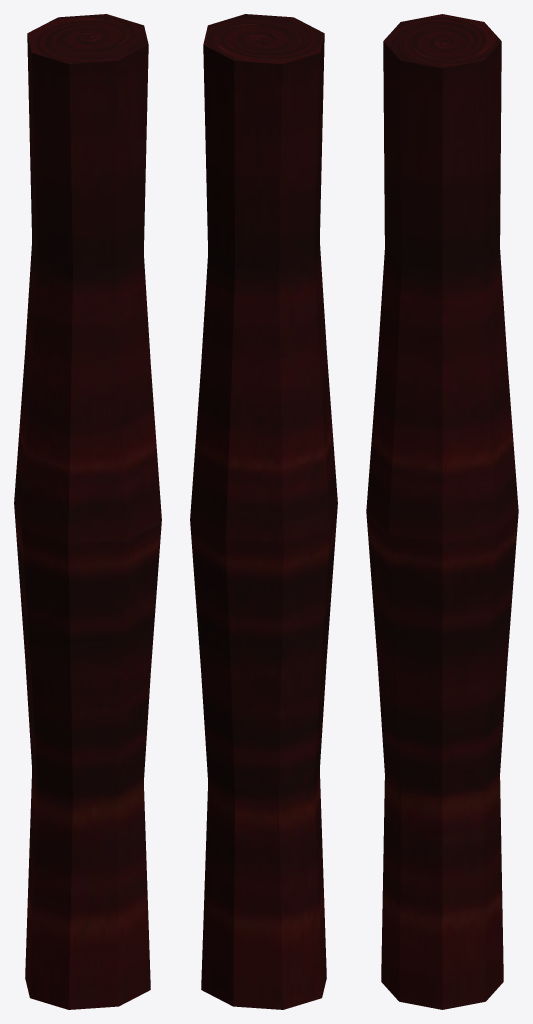
The picture shows the model from 3 angles, left to right: view 1: azimuth 30°, elevation 25°; view 2: azimuth 150°, elevation 25°; view 3: azimuth 270°, elevation 25°; orthographic projection.
Visible parts, largest first — view 1: Cylinder.001; view 2: Cylinder.001; view 3: Cylinder.001.
Part boxes in pixels (<box>): Cylinder.001: <box>14,14,161,1009</box>; Cylinder.001: <box>190,14,337,1009</box>; Cylinder.001: <box>366,14,518,1009</box>.
Size of the model in its own units: 28.55 by 194 by 28.55.
Materials: 1 (1 with a texture image).
